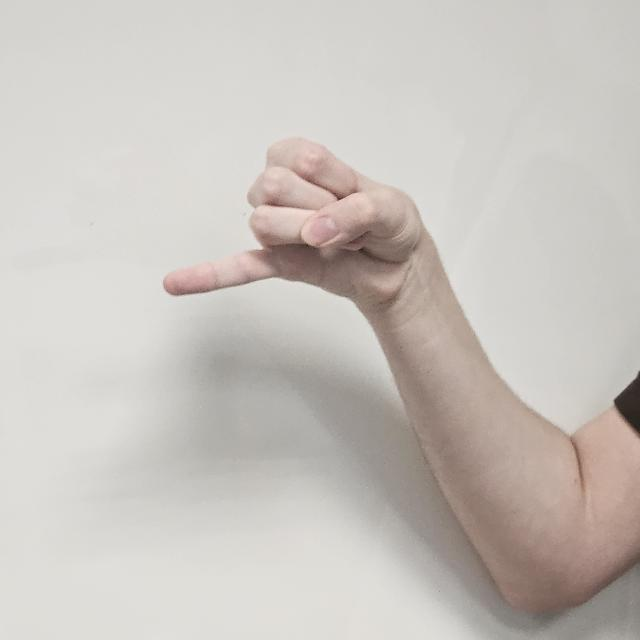Esquerda: (148, 125, 426, 328)
